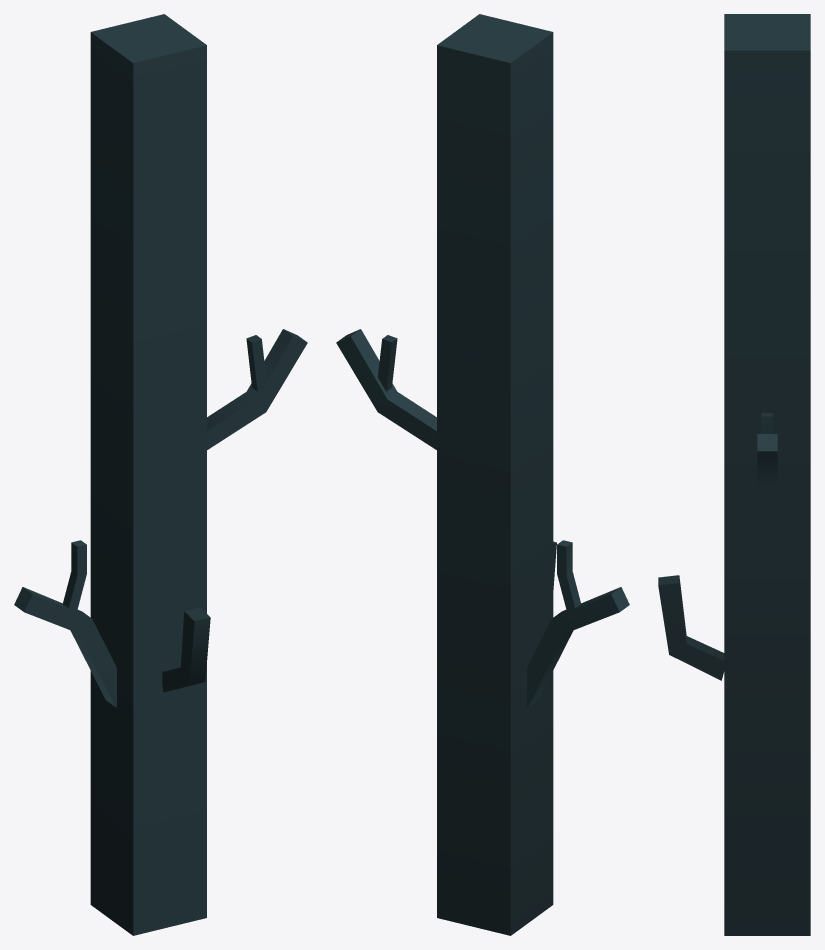
File: tree2-small.fbx
3 views of the same model, side by side, from view 1: azimuth 30°, elevation 25°; view 2: azimuth 150°, elevation 25°; view 3: azimuth 270°, elevation 25° (orthographic).
Visible parts, largest first — view 1: Cube.006; view 2: Cube.006; view 3: Cube.006.
Part boxes in pixels (<box>): Cube.006: <box>14,14,307,935</box>; Cube.006: <box>336,14,629,935</box>; Cube.006: <box>658,14,810,935</box>.
Bounding box in the file's own units: 2.99 × 8.79 × 1.37.
